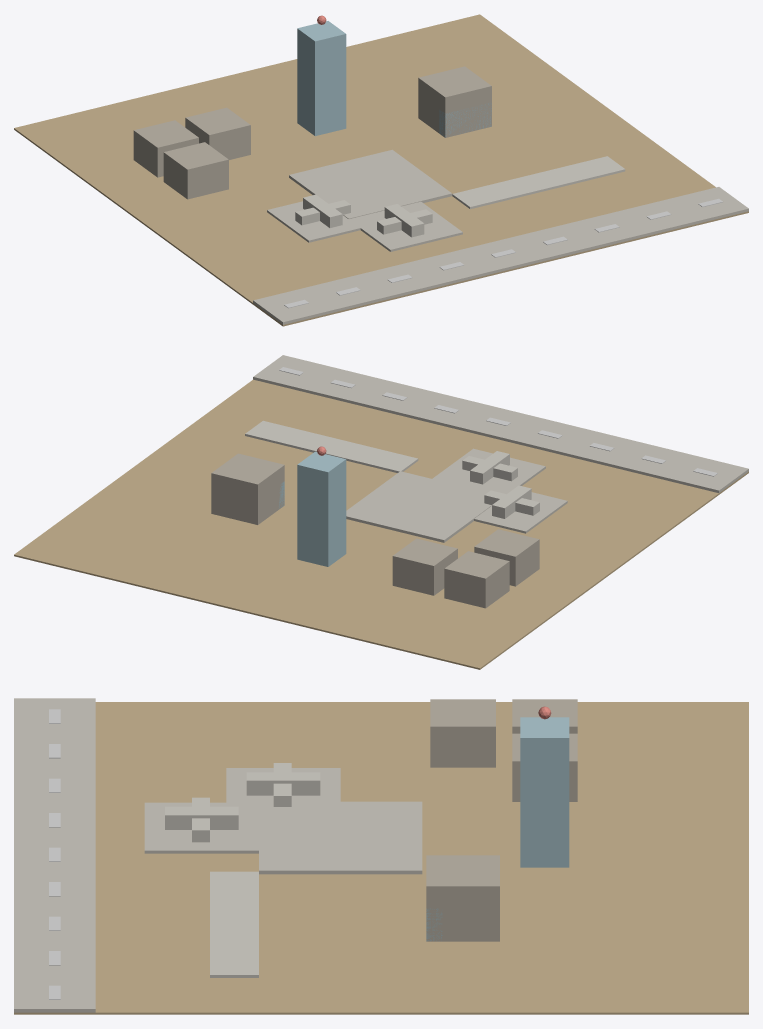
The model's file is stage_09.glb.
The picture shows the model from 3 angles, top to bottom: view 1: azimuth 30°, elevation 25°; view 2: azimuth 150°, elevation 25°; view 3: azimuth 270°, elevation 25°; orthographic projection. The views are drawn at different scales.
Parts seen in each view (by area): view 1: geometry_0; view 2: geometry_0; view 3: geometry_0.
Boxes of the visible parts, <box> form: geometry_0: <box>14,14,748,326</box>; geometry_0: <box>14,355,748,669</box>; geometry_0: <box>14,698,748,1014</box>.
Bounding box in the file's own units: 9 × 2.06 × 9.
